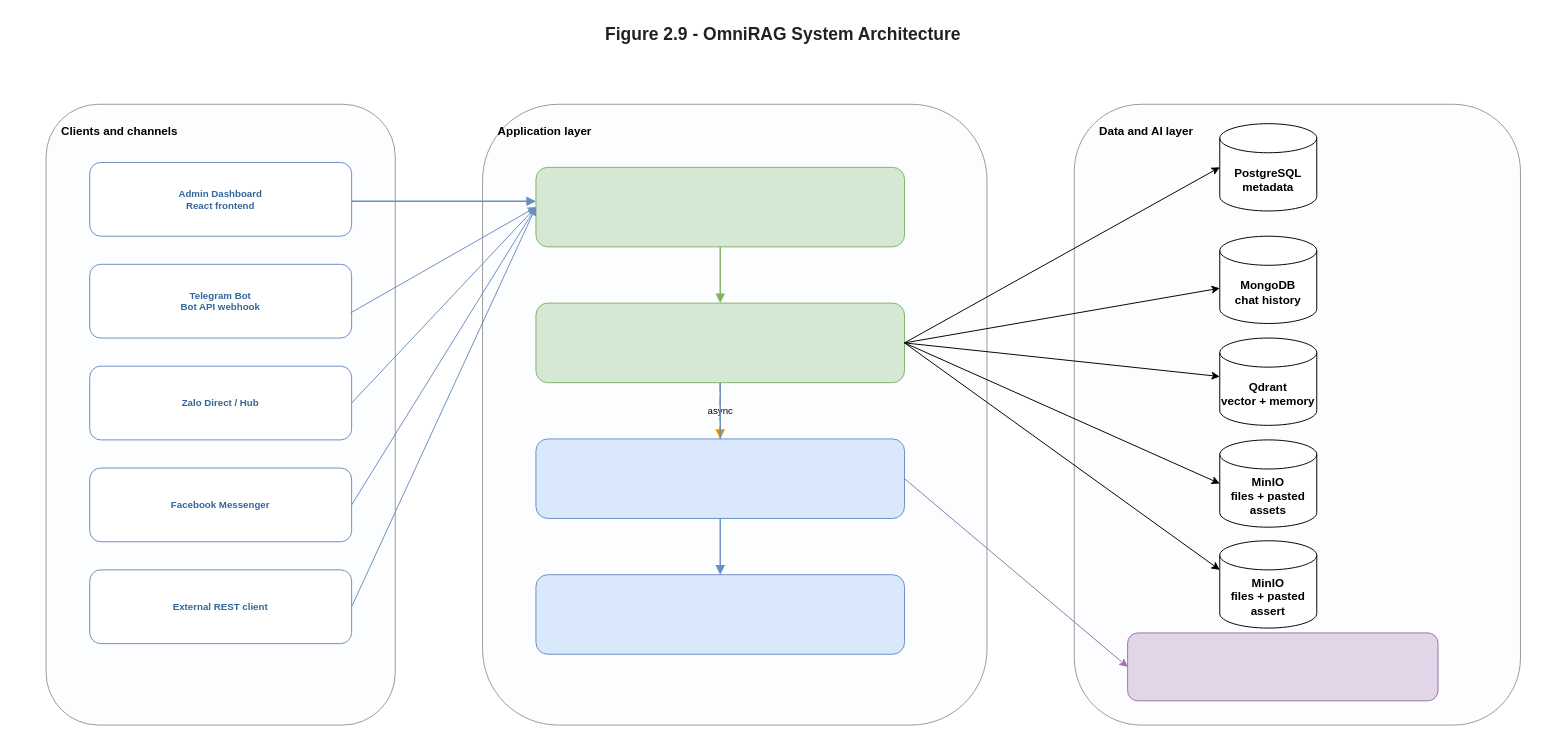
Image size: 1566x742. Some labels were removed from this diagram. Here are the shapes that lost their labels. From the top down, the centre of each, then its label:
At (x=720, y=206): "Go Gateway rate limit, cache, SSE proxy".
At (x=720, y=342): "FastAPI Backend bots, chat, RAG, channels".
At (x=720, y=478): "Celery Worker indexing, KG, channel jobs".
At (x=720, y=614): "FB Channel Worker cookie session, inbound bridge".
At (x=1282, y=666): "OpenRouter LLM + embeddings".
